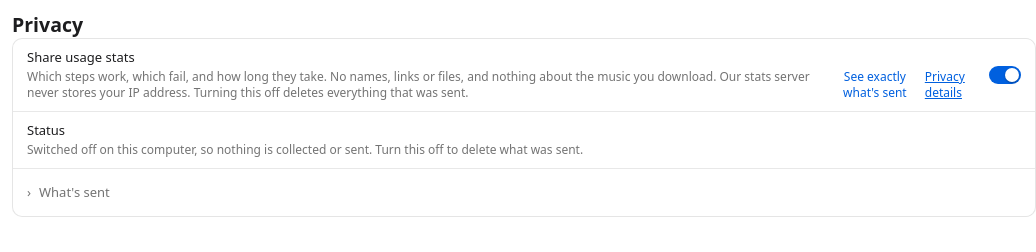
Test: stats switched off on this computer while an ID is still held (security review 2026-11-24, L11) › still shows the switch on, so the owner can turn it off and delete what was sent
The image size is (1036, 252).
Check: the text "Switched off on this computer" is shown, box [27,141,583,158]
Click the switch named "Share usage stats".
click(1005, 75)  # box [989,66,1021,84]
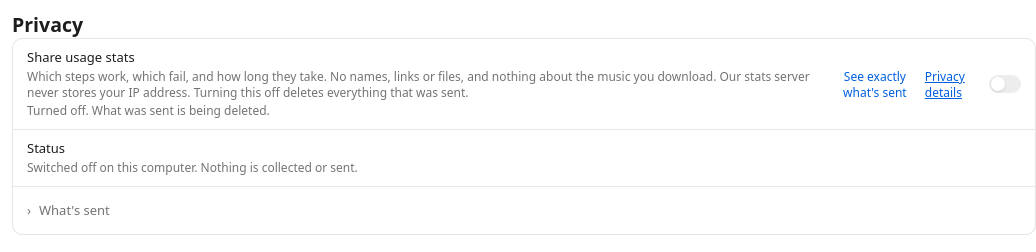
Check: the text "Turned off. What was sent is being deleted." is shown, box [27,102,270,119]
